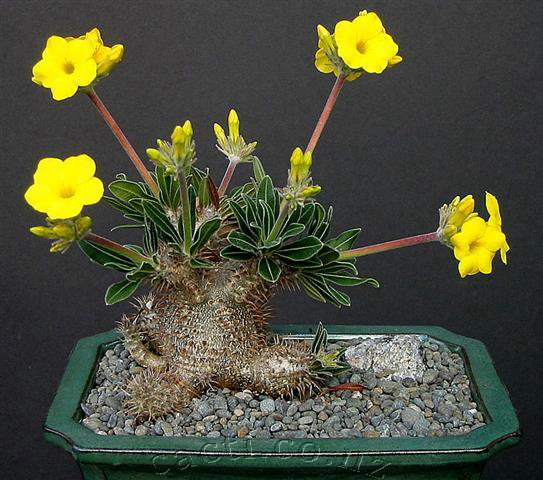Pachypodium rosulatum: (37, 43, 509, 408)
